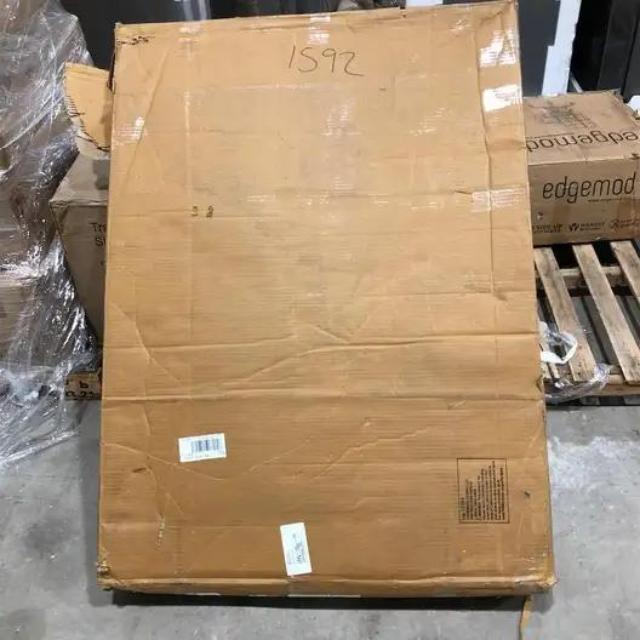papelão: (92, 0, 558, 602)
